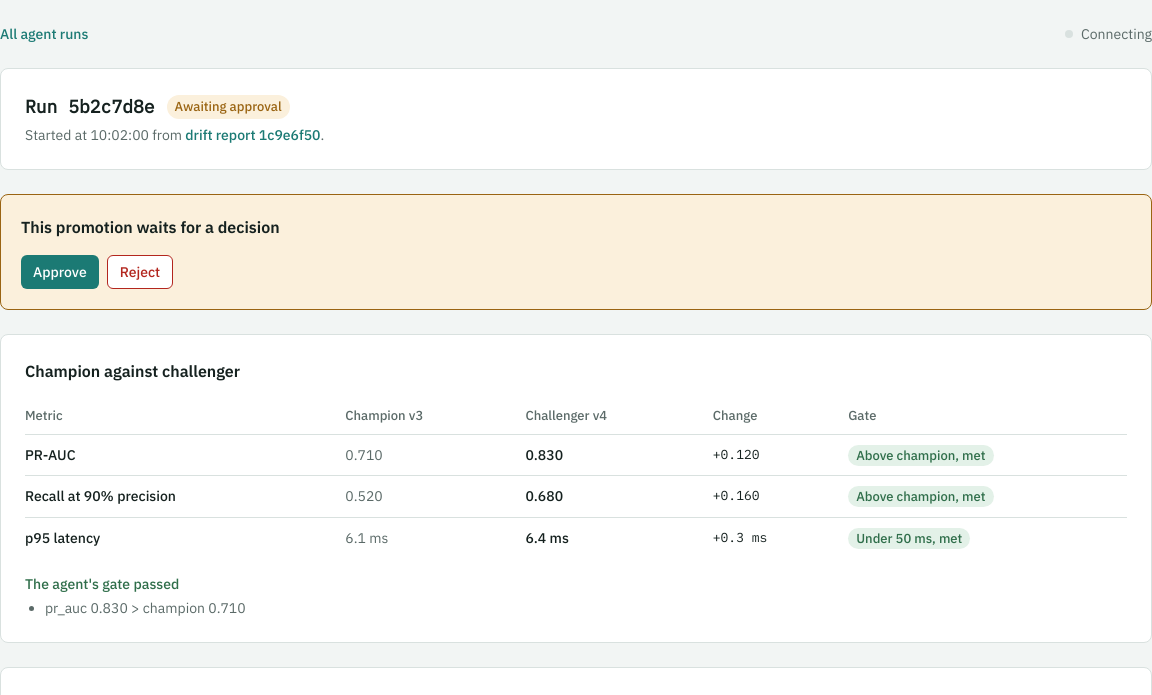
Test: agent run approval › lets an admin approve after confirming
Click the button "Approve".
click(60, 272)  # box [21,255,99,289]
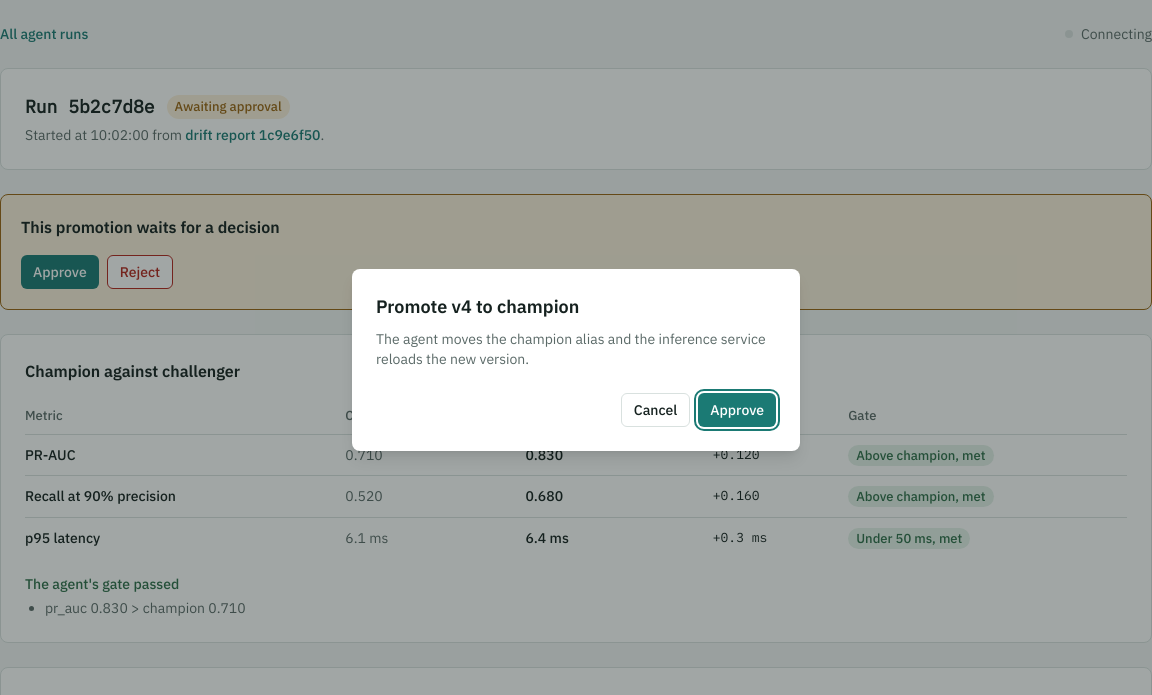
Click the button "Approve".
click(737, 410)  # box [698,393,776,427]
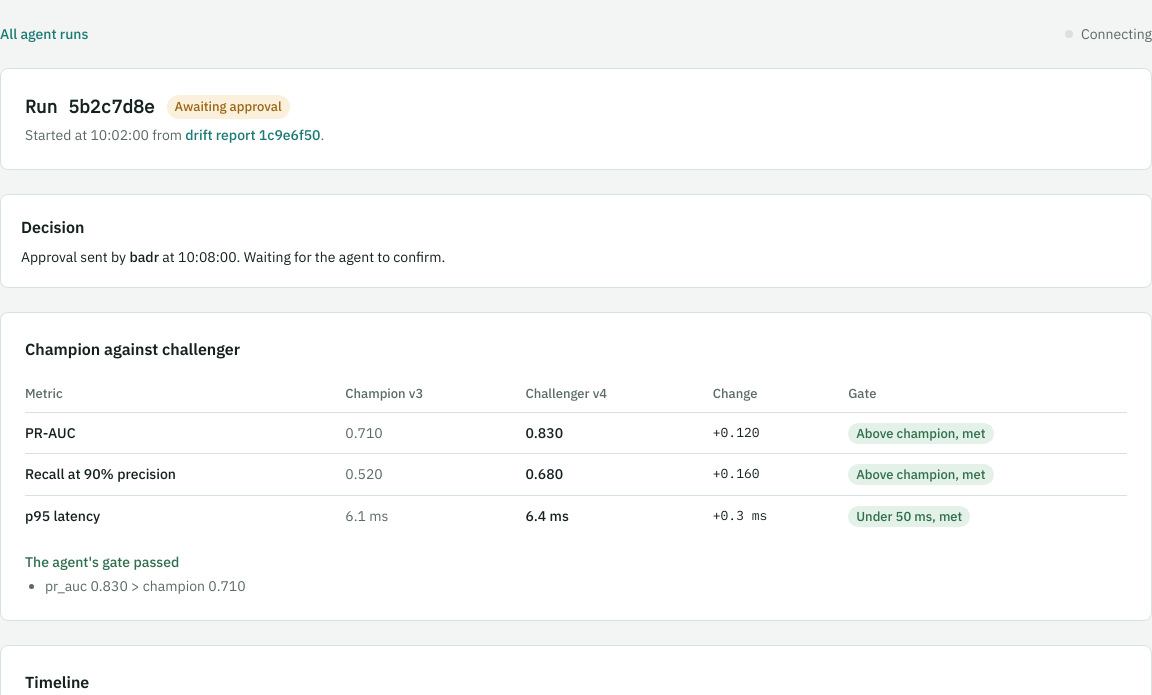
Expected: the text "Waiting for the agent to confirm" is shown, [237,248,445,266]
Expected: the dialog is gone
Expected: the button "Approve" is gone
